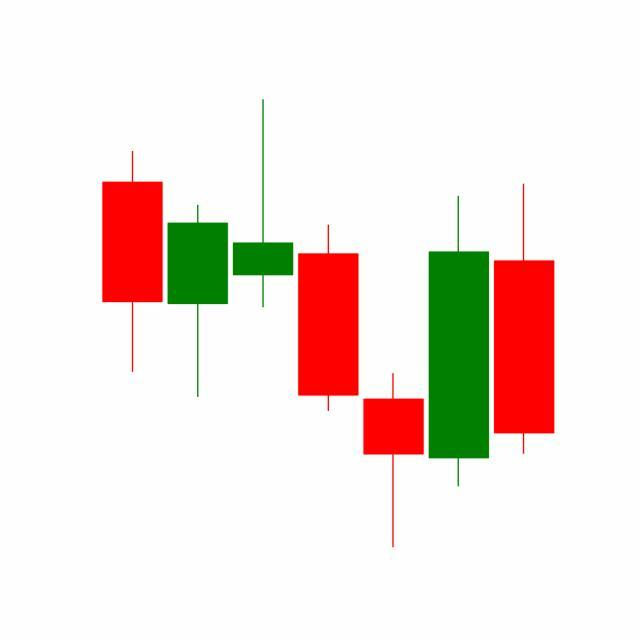Morning Star: (295, 192, 492, 548)
